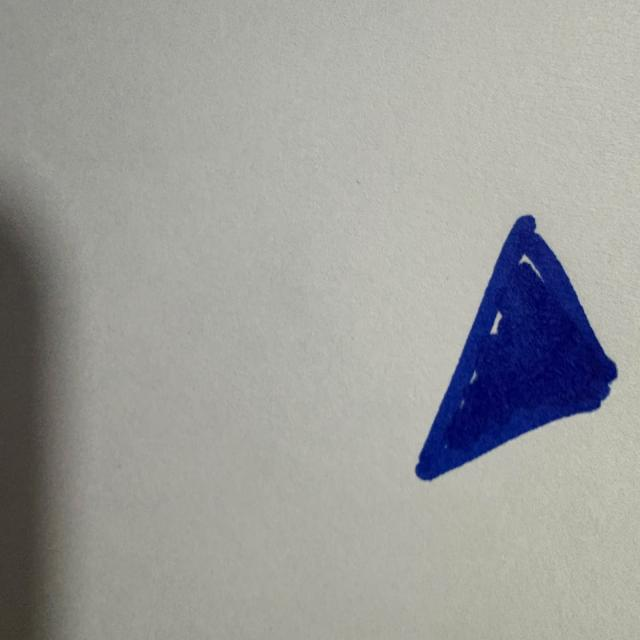Triangle: (416, 216, 617, 480)
